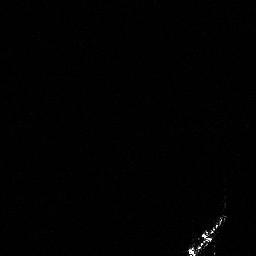ship: (184, 211, 231, 256)
